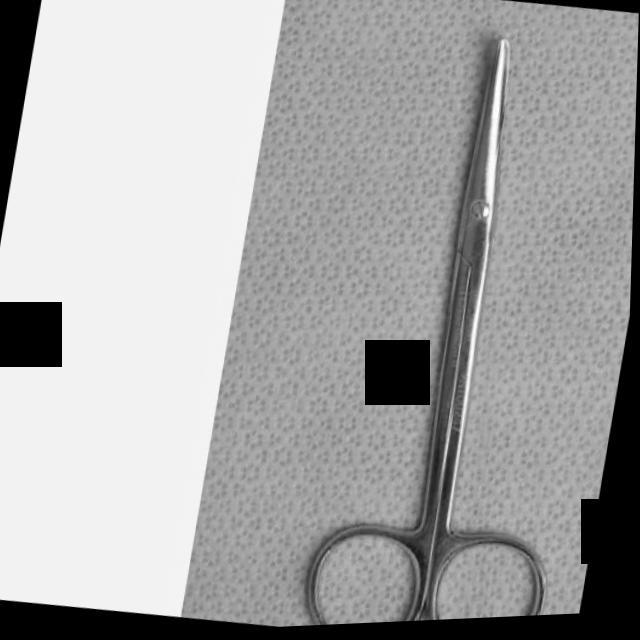Metzenbaum Sciccors: (291, 8, 639, 630)
